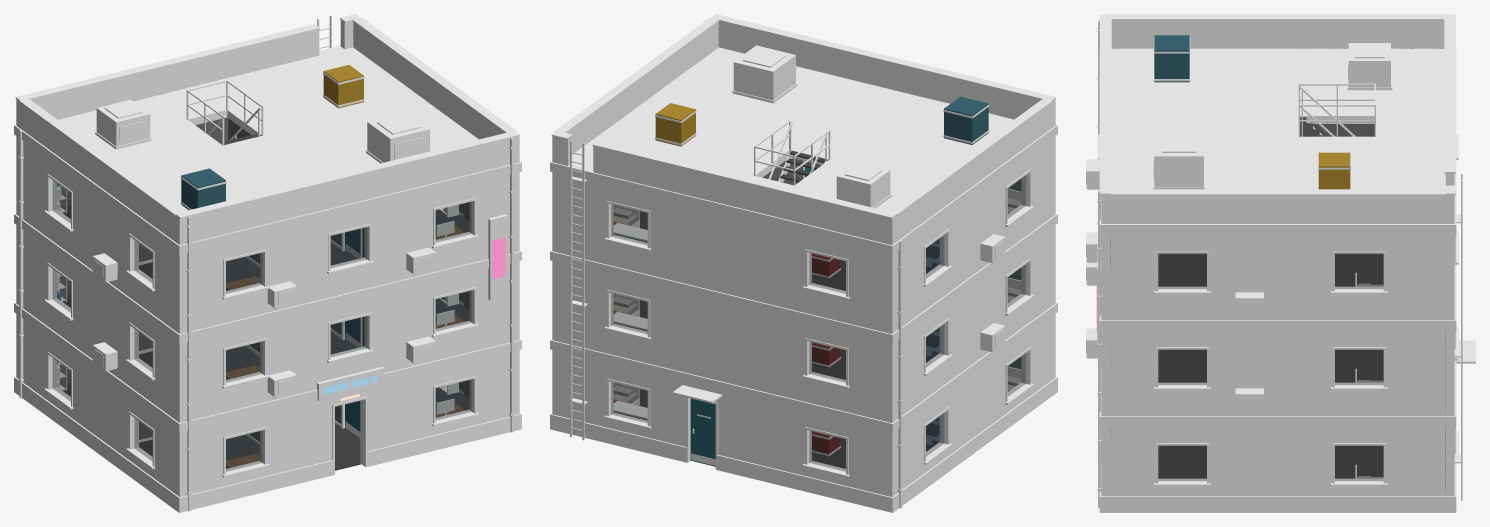
The model's file is house_apartment.glb.
3 renders of one model, left to right at view 1: azimuth 30°, elevation 25°; view 2: azimuth 150°, elevation 25°; view 3: azimuth 270°, elevation 25°, orthographic. The views are drawn at different scales.
Visible parts, largest first — view 1: apartment_concrete, apartment_concrete_dark, apartment_gunmetal, apartment_pane, apartment_dark, apartment_titan, apartment_floor, apartment_plaster, apartment_paint_teal, apartment_paint_yellow, apartment_wood; view 2: apartment_concrete, apartment_concrete_dark, apartment_gunmetal, apartment_pane, apartment_titan, apartment_dark, apartment_floor, apartment_paint_teal, apartment_paint_red, apartment_mattress, door_0_door_teal, apartment_paint_yellow (+2 smaller); view 3: apartment_concrete, apartment_concrete_dark, apartment_gunmetal, apartment_pane, apartment_floor, apartment_titan, apartment_dark, apartment_paint_teal, apartment_paint_yellow, apartment_plaster.
Part boxes in pixels (<box>): apartment_concrete: <box>16,20,519,496</box>; apartment_concrete_dark: <box>14,45,521,512</box>; apartment_gunmetal: <box>15,14,520,511</box>; apartment_pane: <box>53,181,471,471</box>; apartment_dark: <box>18,72,515,494</box>; apartment_titan: <box>57,99,446,396</box>; apartment_floor: <box>63,205,469,470</box>; apartment_plaster: <box>59,47,469,441</box>; apartment_paint_teal: <box>181,168,444,299</box>; apartment_paint_yellow: <box>323,65,363,108</box>; apartment_wood: <box>226,226,464,467</box>; apartment_concrete: <box>552,21,1055,496</box>; apartment_concrete_dark: <box>550,47,1057,512</box>; apartment_gunmetal: <box>551,14,1056,508</box>; apartment_pane: <box>611,176,1025,471</box>; apartment_titan: <box>733,45,1005,351</box>; apartment_dark: <box>613,48,1051,491</box>; apartment_floor: <box>639,211,845,468</box>; apartment_paint_teal: <box>614,96,988,420</box>; apartment_paint_red: <box>812,253,840,456</box>; apartment_mattress: <box>613,198,1021,403</box>; door_0_door_teal: <box>690,398,715,466</box>; apartment_paint_yellow: <box>614,103,695,331</box>; apartment_concrete: <box>1101,20,1454,496</box>; apartment_concrete_dark: <box>1099,44,1456,512</box>; apartment_gunmetal: <box>1087,14,1475,508</box>; apartment_pane: <box>1158,254,1383,480</box>; apartment_floor: <box>1158,253,1383,478</box>; apartment_titan: <box>1086,43,1390,411</box>; apartment_dark: <box>1086,28,1445,490</box>; apartment_paint_teal: <box>1154,35,1189,82</box>; apartment_paint_yellow: <box>1318,152,1350,189</box>; apartment_plaster: <box>1110,48,1445,491</box>.
Size of the model in its own units: 12.87 by 10.28 by 11.04.
